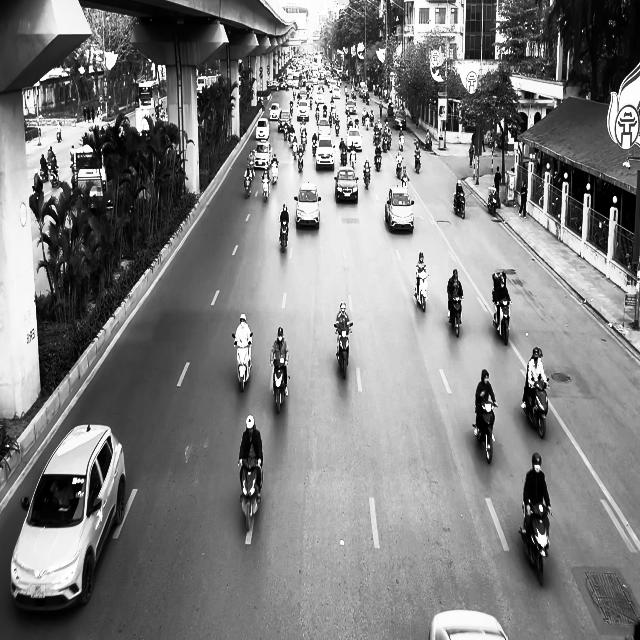car: (10, 422, 126, 614), (428, 610, 508, 640), (385, 185, 415, 232), (294, 182, 322, 228), (334, 166, 359, 203), (315, 134, 336, 171), (253, 141, 273, 168), (346, 128, 363, 151), (255, 118, 270, 140), (277, 110, 292, 132)
motorbike: (519, 500, 553, 587), (240, 458, 264, 530), (522, 377, 550, 438), (473, 399, 498, 464), (232, 332, 254, 392), (334, 321, 354, 379), (270, 358, 290, 414), (492, 297, 512, 345), (448, 294, 464, 337), (414, 272, 430, 312), (454, 192, 466, 219), (487, 187, 498, 215), (280, 219, 289, 252), (262, 175, 271, 202), (363, 166, 371, 189), (415, 154, 421, 174)
